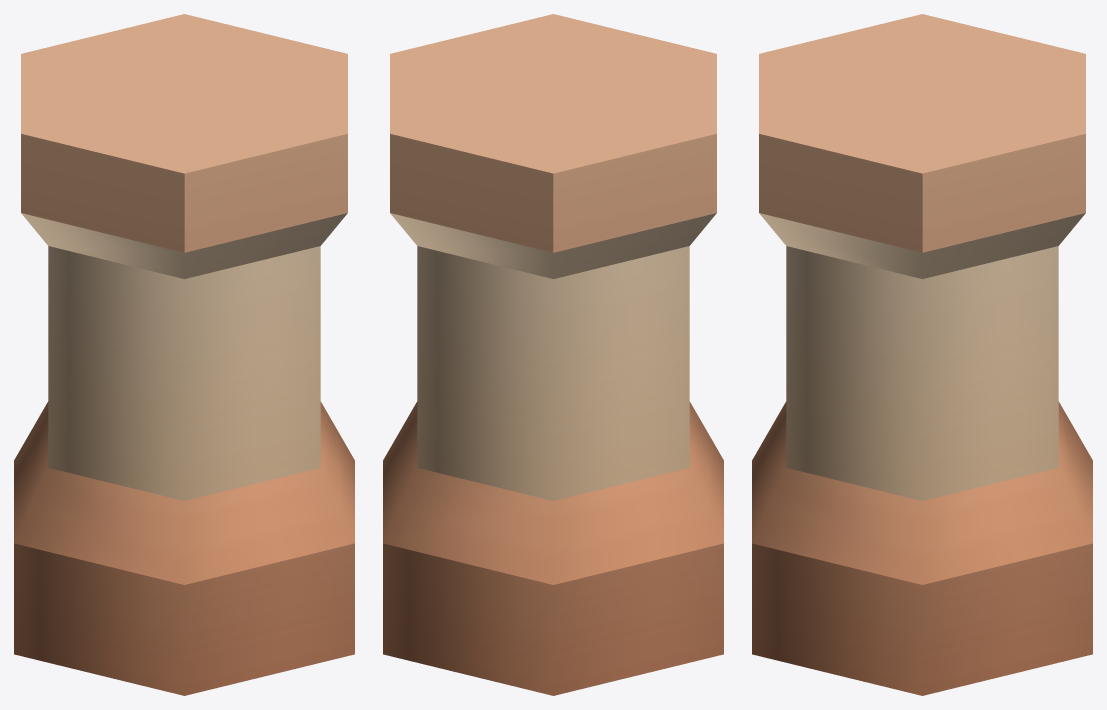
File: tower-hexagon-base.obj
3 renders of one model, left to right at view 1: azimuth 30°, elevation 25°; view 2: azimuth 150°, elevation 25°; view 3: azimuth 270°, elevation 25°, orthographic.
Visible parts, largest first — view 1: tower-hexagon-base; view 2: tower-hexagon-base; view 3: tower-hexagon-base.
Part boxes in pixels (x1=…): tower-hexagon-base: x1=14, y1=14, x2=354, y2=695; tower-hexagon-base: x1=383, y1=14, x2=723, y2=695; tower-hexagon-base: x1=752, y1=14, x2=1092, y2=695.
Size of the model in its own units: 0.9 by 1.31 by 0.7794.
Materials: 1 (1 with a texture image).
